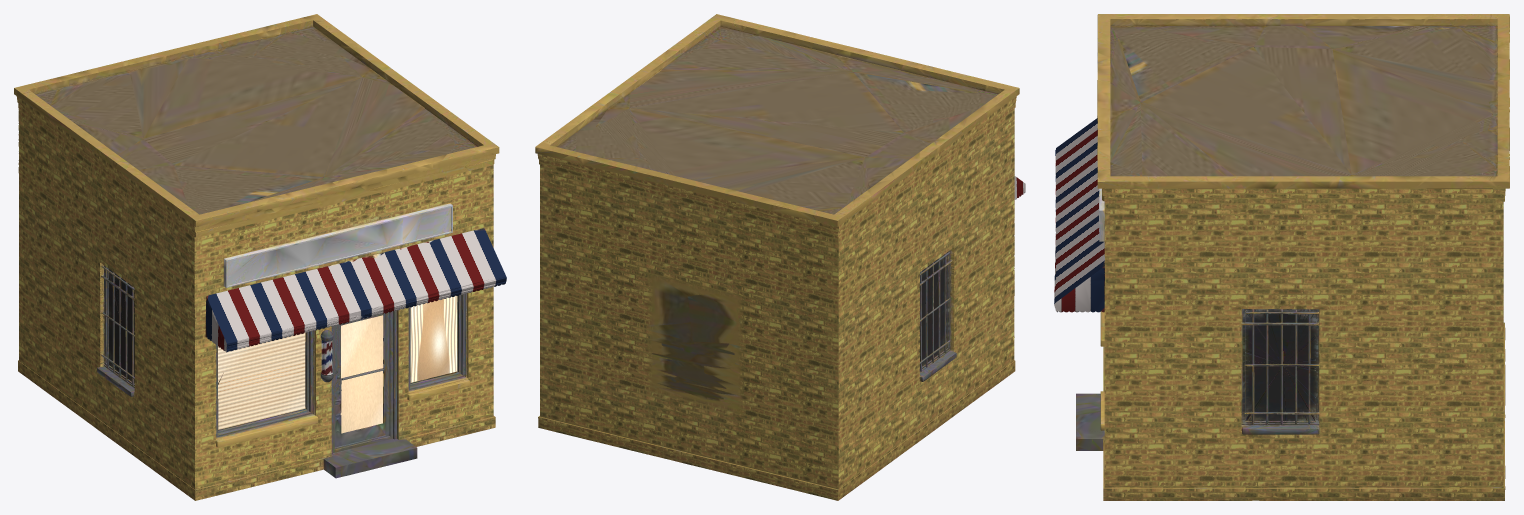
The model's file is store-barber.glb.
The picture shows the model from 3 angles, left to right: view 1: azimuth 30°, elevation 25°; view 2: azimuth 150°, elevation 25°; view 3: azimuth 270°, elevation 25°; orthographic projection. The views are drawn at different scales.
Visible parts, largest first — view 1: Mesh_0; view 2: Mesh_0; view 3: Mesh_0.
Boxes of the visible parts, bbox=[...] form: Mesh_0: bbox=[14, 14, 506, 500]; Mesh_0: bbox=[535, 14, 1025, 500]; Mesh_0: bbox=[1054, 14, 1509, 500].
Bounding box in the file's own units: 5.09 × 4.5 × 5.81.
5 materials, 5 textured.
